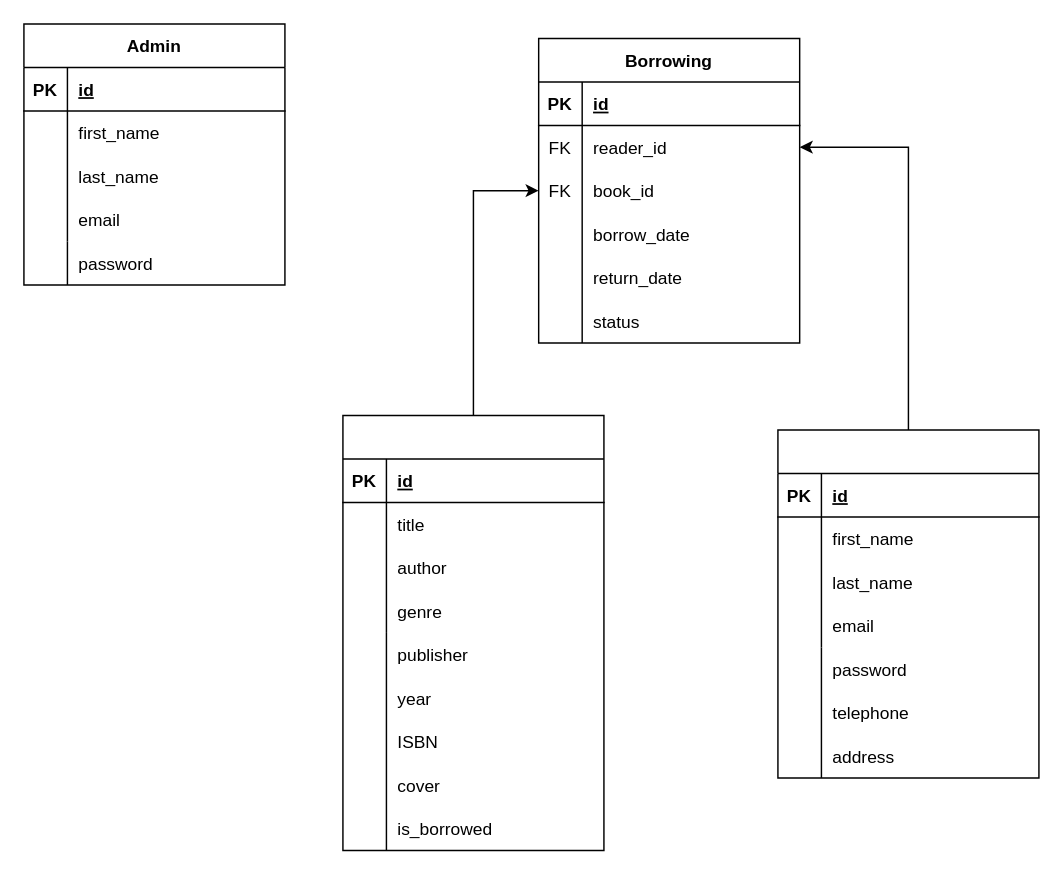
Some shapes in this 1063 by 874 pixel diagram are drawn without their labels. Each missing label, with the box of its shape:
Book: (341, 414, 604, 850)
Reader: (776, 428, 1039, 778)
